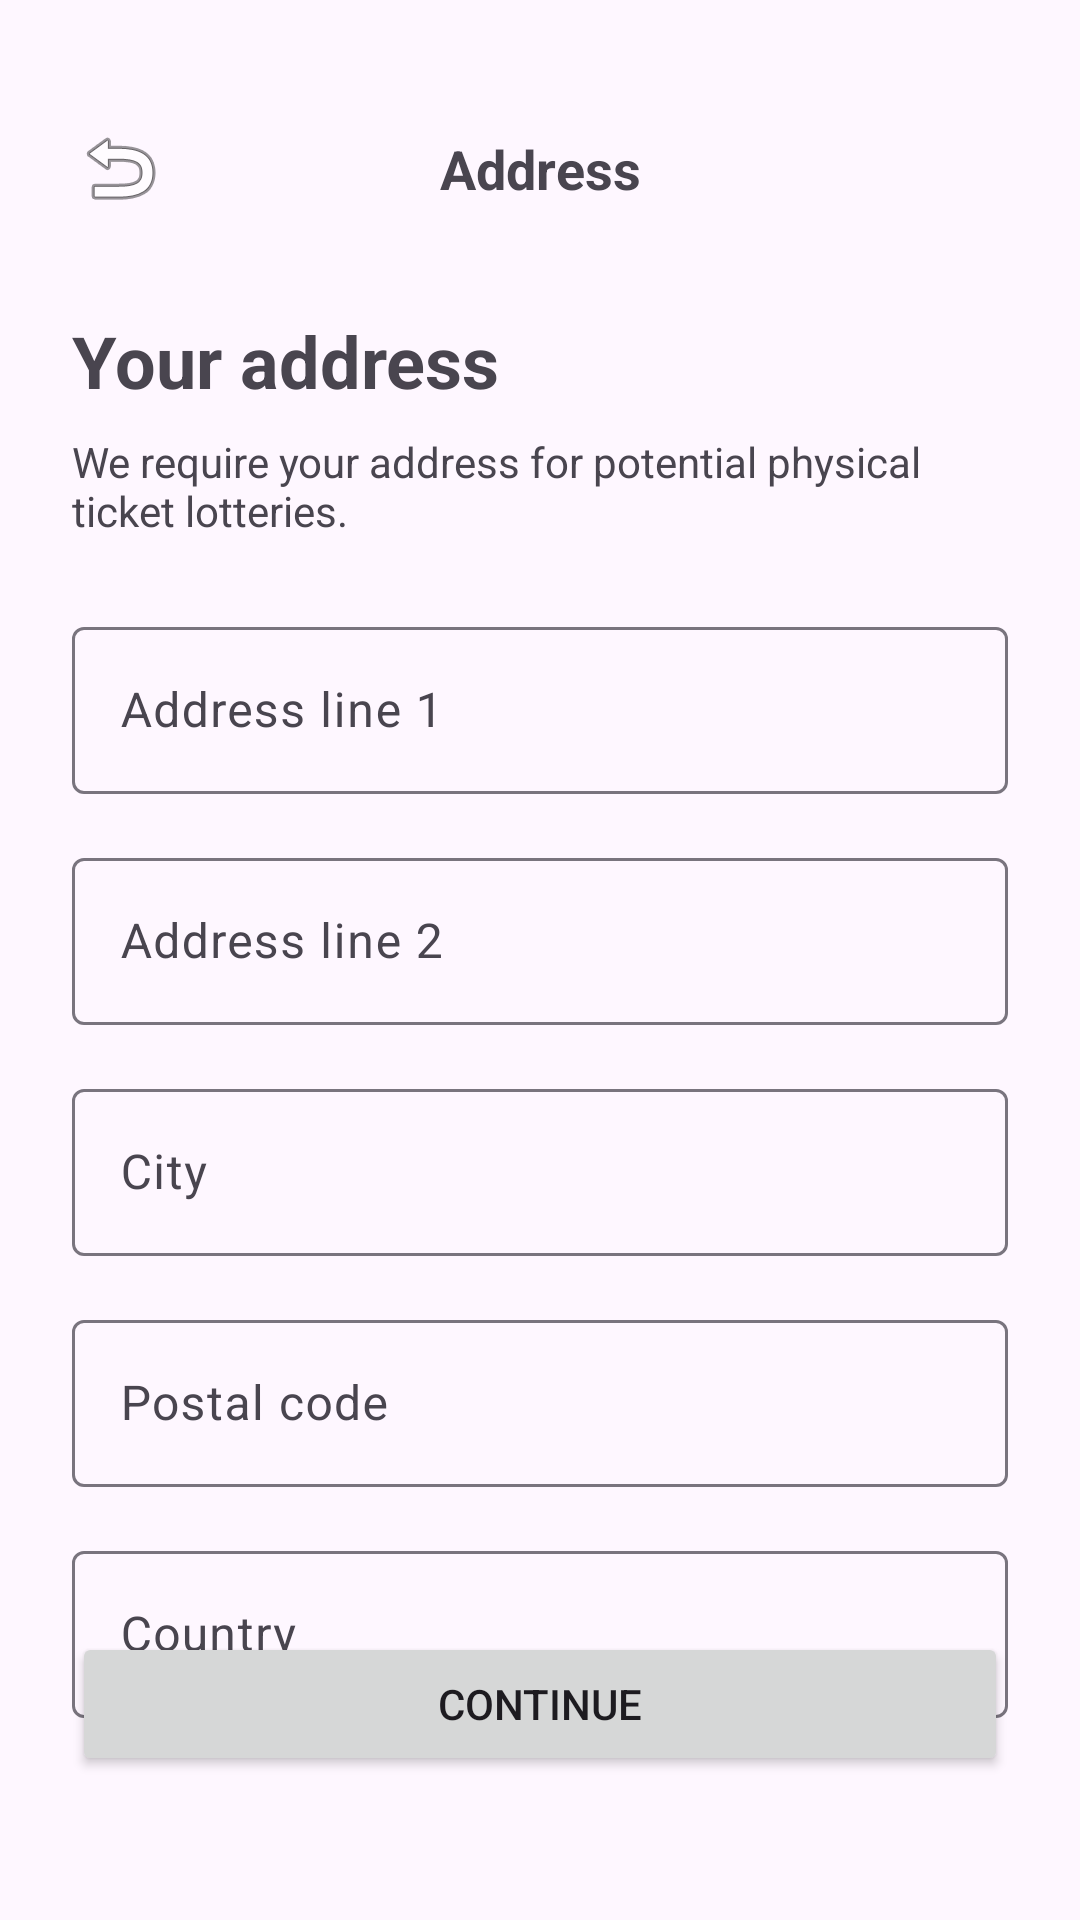

Named icons in this screenshot (1080x1920) and their bounding boxes, (left=x1, top=y1, right=x2, bottom=y2):
revert: (left=87, top=137, right=156, bottom=200)
